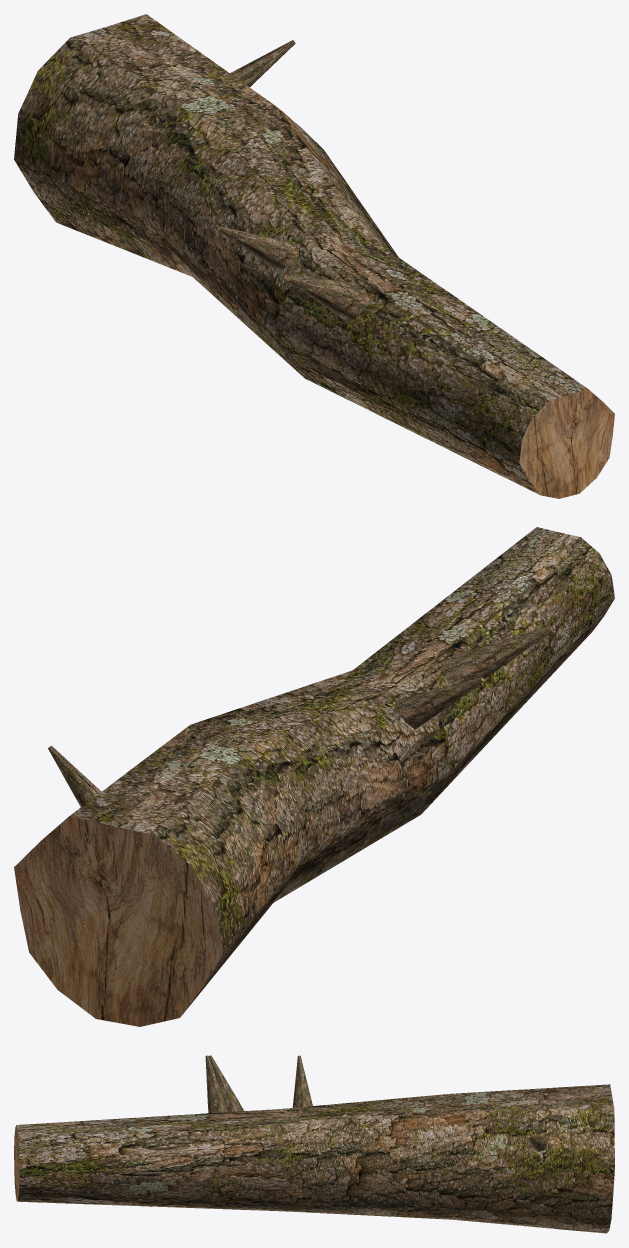
Rendered from log-2.obj.
3 renders of one model, top to bottom at view 1: azimuth 30°, elevation 25°; view 2: azimuth 150°, elevation 25°; view 3: azimuth 270°, elevation 25°, orthographic. The views are drawn at different scales.
Bounding box in the file's own units: 1.82 × 1.37 × 5.68.
1 material, 1 textured.
